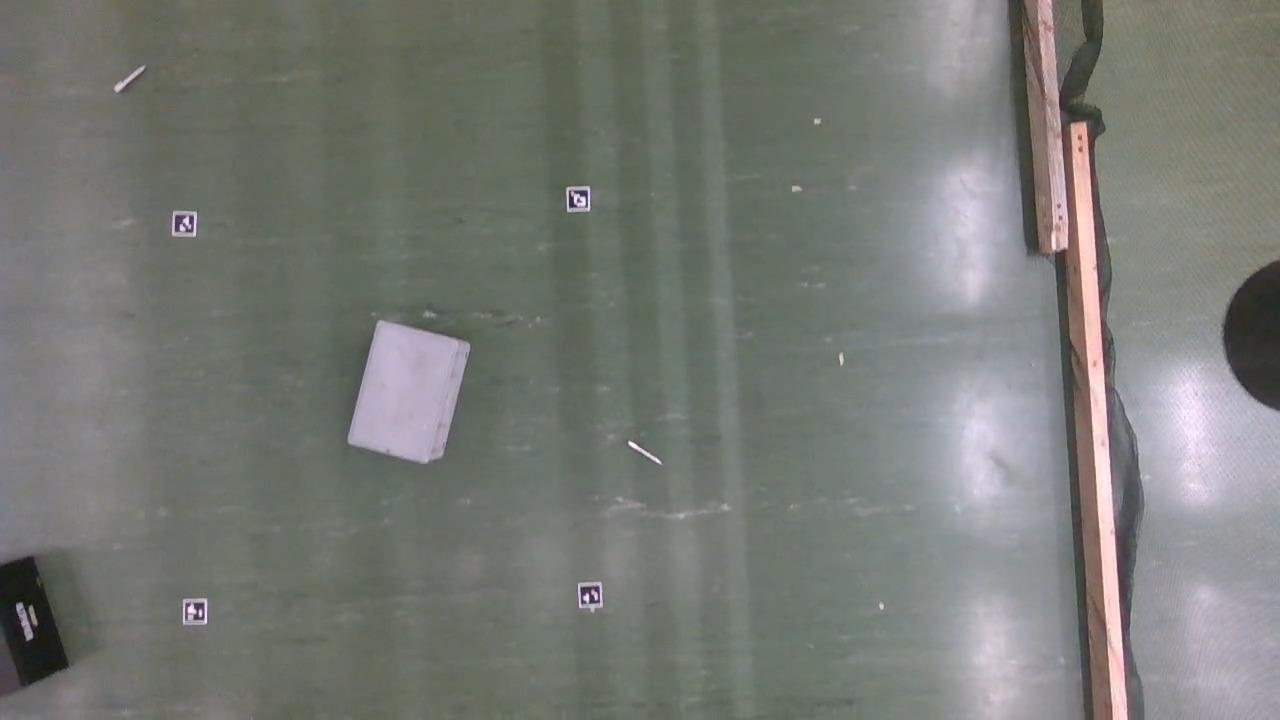probes: (113, 64, 145, 93), (627, 440, 663, 465)
rako: (348, 320, 469, 463)
